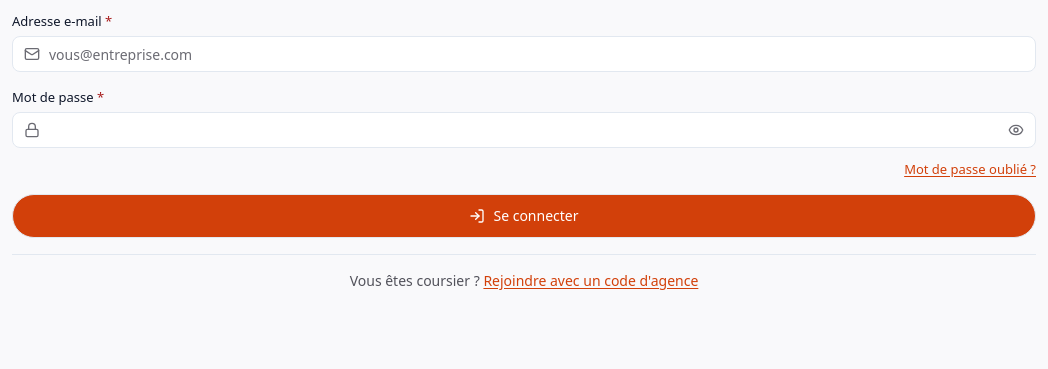
Scenario: login › explains a 401
Step 1. Type "awa@example.com" into the field labelled "Adresse e-mail *" → (524, 54), box [12,36,1036,72]
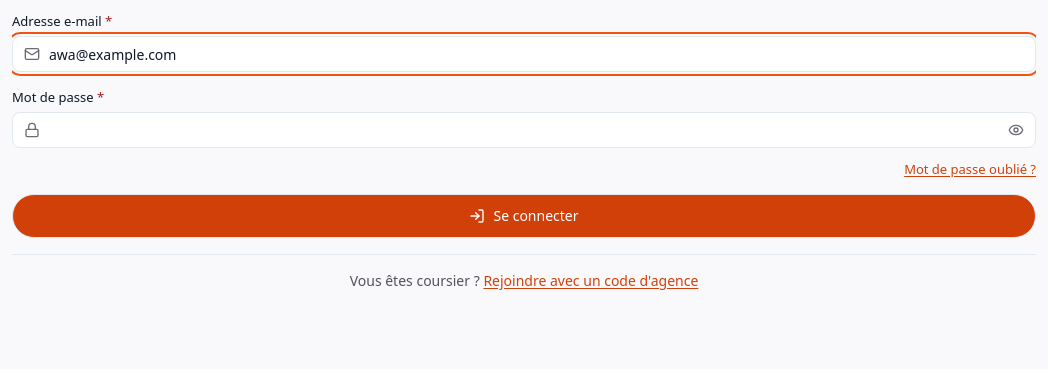
Step 2. Type "secret123" into the password field labelled "Mot de passe *" → (524, 130), box [12,112,1036,148]
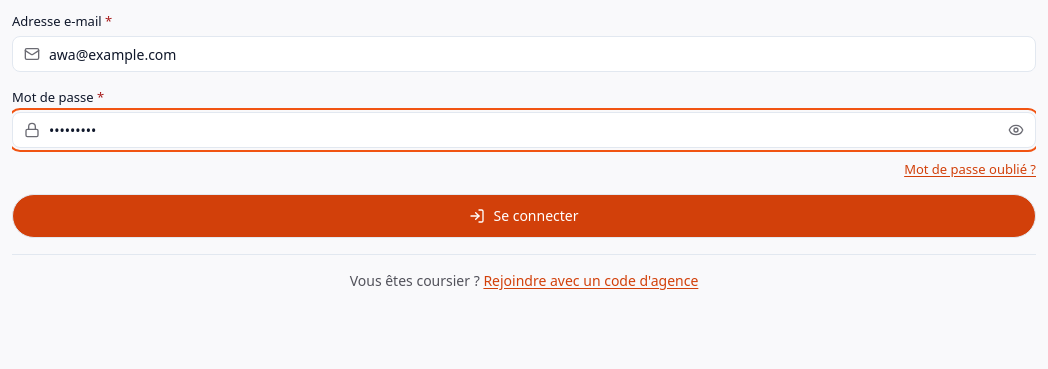
Step 3. Click the button "Se connecter" → (524, 216), box [12,194,1036,238]
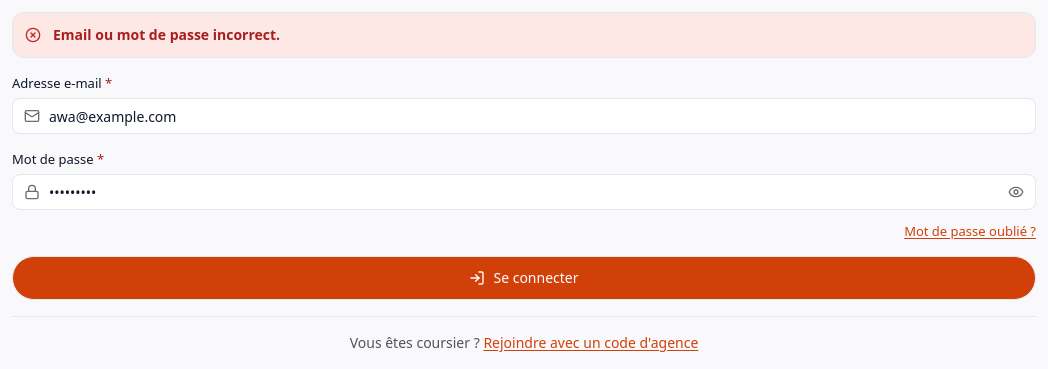
Expected: the text "Email ou mot de passe incorrect." is shown, [53,25,280,44]
